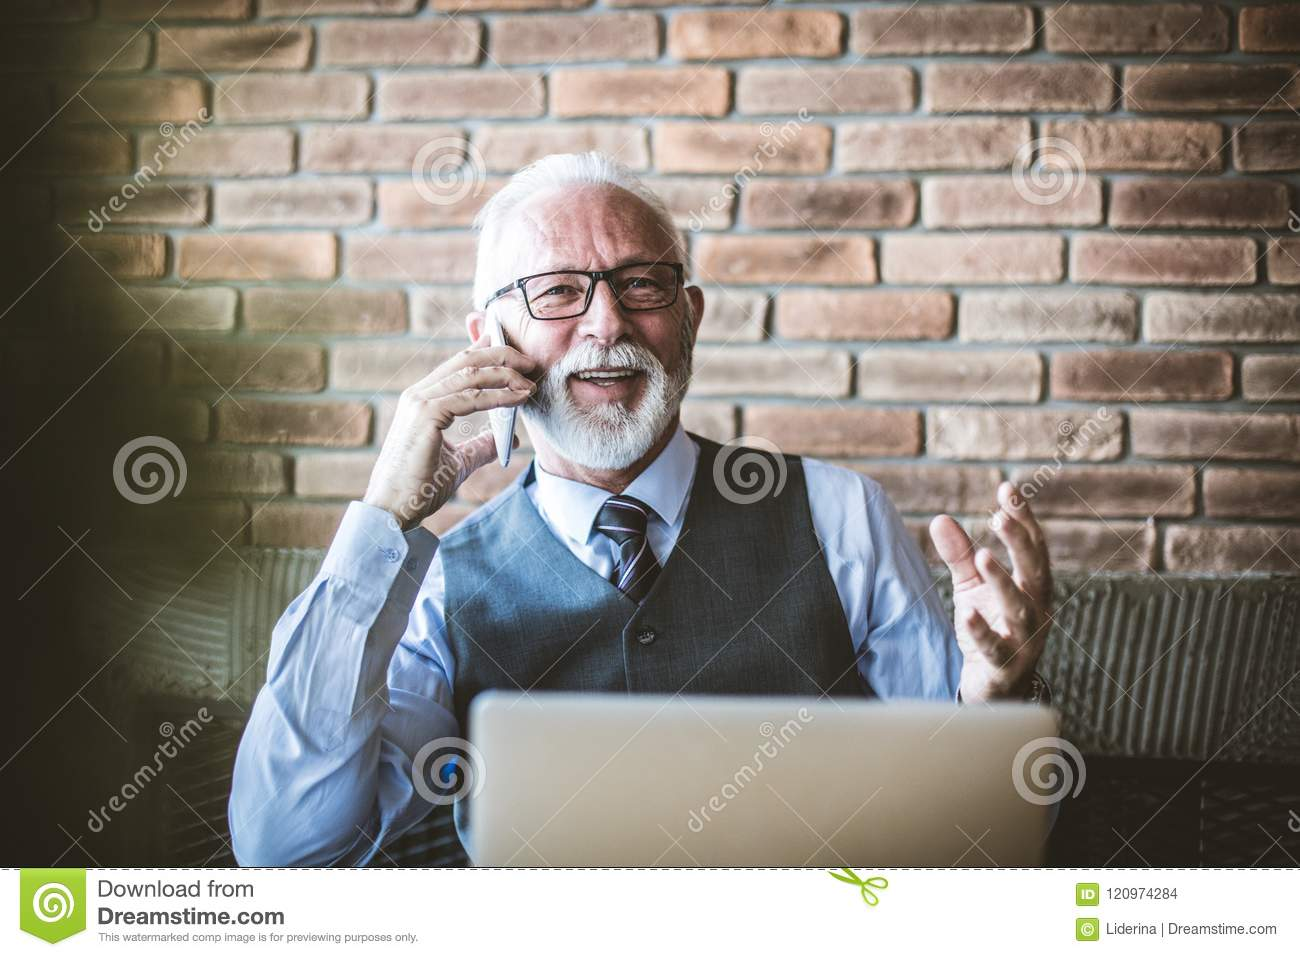phone: (477, 317, 517, 473)
talk: (370, 247, 683, 527)
